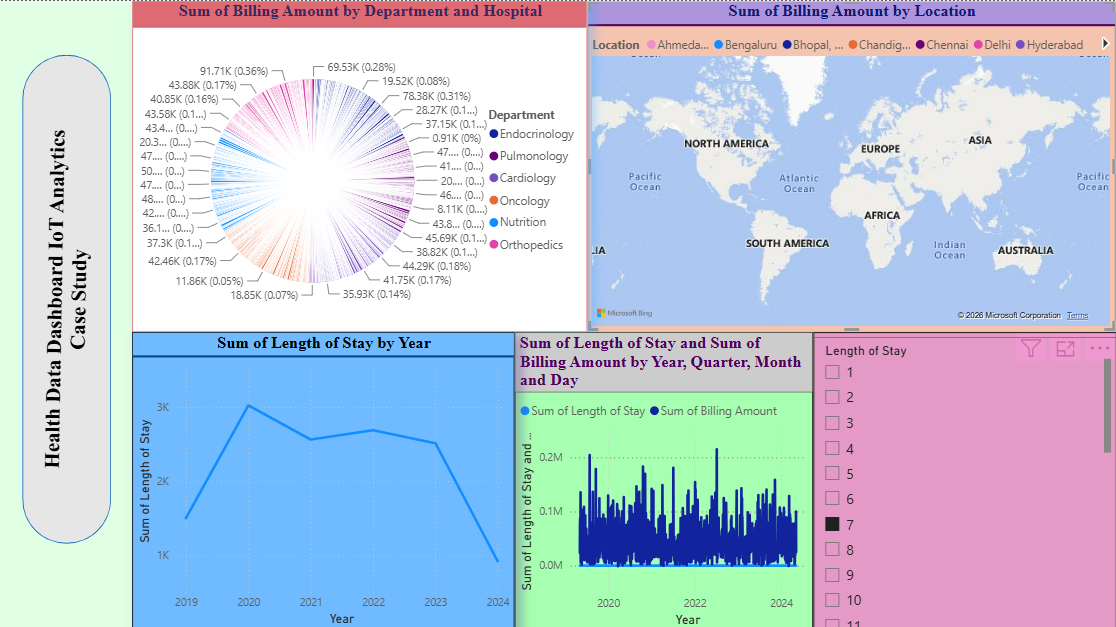

The page's visual inventory and layout, read from the dashboard file:
{"tool":"powerbi","page":{"name":"Page 1","canvas":[1280,720],"ordinal":0},"visuals":[{"type":"map","fields":{"Series":["health_dataset_with_random_location Data Ana.Location"],"Size":["Sum(health_dataset_with_random_location Data Ana.Billing Amount)"]},"box":[676,0,604,378],"z":0},{"type":"pieChart","fields":{"Category":["health_dataset_with_random_location Data Ana.Department"],"Series":["health_dataset_with_random_location Data Ana.Hospital"],"Y":["Sum(health_dataset_with_random_location Data Ana.Billing Amount)"]},"box":[156,0,520,378],"z":1000},{"type":"slicer","fields":{"Values":["health_dataset_with_random_location Data Ana.Length of Stay"]},"box":[934,378,346,342],"z":2000},{"type":"lineChart","fields":{"Category":["health_dataset_with_random_location Data Ana.Date of Admission.Variation.Date Hierarchy.Year","health_dataset_with_random_location Data Ana.Date of Admission.Variation.Date Hierarchy.Quarter","health_dataset_with_random_location Data Ana.Date of Admission.Variation.Date Hierarchy.Month","health_dataset_with_random_location Data Ana.Date of Admission.Variation.Date Hierarchy.Day"],"Y":["Sum(health_dataset_with_random_location Data Ana.Length of Stay)","Sum(health_dataset_with_random_location Data Ana.Billing Amount)"]},"box":[593,378,341,342],"z":3000},{"type":"shape","box":[29.3,61.1,101.5,558.8],"z":4000},{"type":"lineChart","fields":{"Category":["health_dataset_with_random_location Data Ana.Discharge Date.Variation.Date Hierarchy.Year"],"Y":["Sum(health_dataset_with_random_location Data Ana.Length of Stay)"]},"box":[156,378,437,342],"z":5000}]}

Visuals, with their boxes in screenshot pixels (x1, y1, x2, y2), scaled from the page's 1280x720 canvas onto the 1116x627 screenshot:
map - health_dataset_with_random_location Data Ana.Location x Sum(health_dataset_with_random_location Data Ana.Billing Amount): select_region(589, 0, 1115, 329)
pieChart - health_dataset_with_random_location Data Ana.Department x health_dataset_with_random_location Data Ana.Hospital: select_region(136, 0, 589, 329)
slicer - health_dataset_with_random_location Data Ana.Length of Stay: select_region(814, 329, 1115, 626)
lineChart - health_dataset_with_random_location Data Ana.Date of Admission.Variation.Date Hierarchy.Year x health_dataset_with_random_location Data Ana.Date of Admission.Variation.Date Hierarchy.Quarter: select_region(517, 329, 814, 626)
shape: select_region(26, 53, 114, 540)
lineChart - health_dataset_with_random_location Data Ana.Discharge Date.Variation.Date Hierarchy.Year x Sum(health_dataset_with_random_location Data Ana.Length of Stay): select_region(136, 329, 517, 626)
